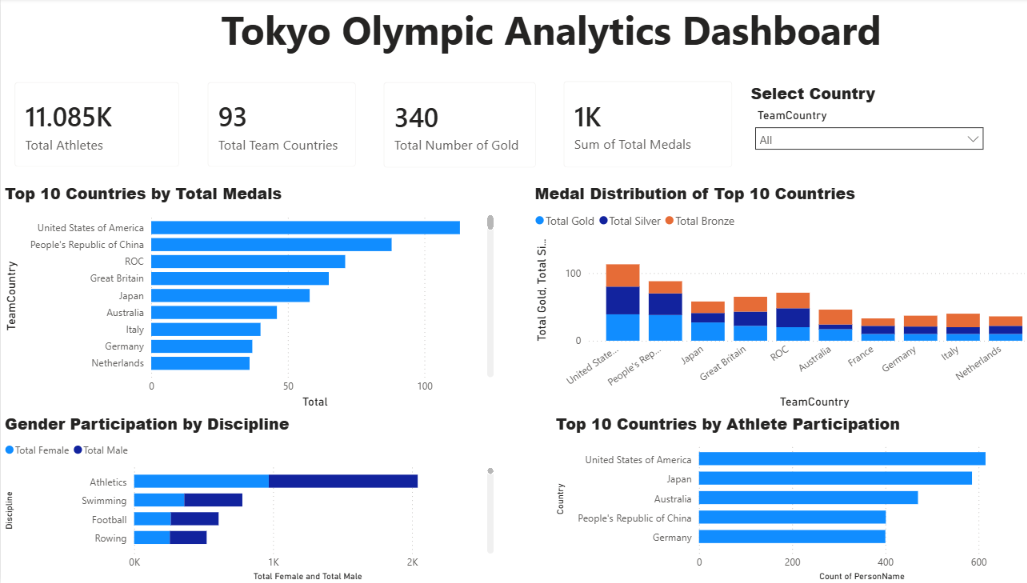

The page's visual inventory and layout, read from the dashboard file:
{"tool":"powerbi","page":{"name":"Page 1","canvas":[1280,720],"ordinal":0},"visuals":[{"type":"cardVisual","fields":{"Data":["CountNonNull(athletes.PersonName)"]},"box":[0.5,86,236,138.5],"z":0},{"type":"textbox","box":[196,0,958,76],"z":1000},{"type":"cardVisual","fields":{"Data":["Count(medals.TeamCountry)"]},"box":[236.5,86,216,138.5],"z":2000},{"type":"cardVisual","fields":{"Data":["Sum(medals.Gold)"]},"box":[452.3,86.2,221.5,139.2],"z":3000},{"type":"cardVisual","fields":{"Data":["Sum(medals.Total Medals)"]},"box":[673.8,84.6,241.5,140],"z":4000},{"type":"clusteredBarChart","title":"Top 10 Countries by Total Medals","fields":{"Y":["Sum(medals.Total)"],"Category":["medals.TeamCountry"]},"box":[0,226,610,282],"z":5000},{"type":"columnChart","title":"Medal Distribution of Top 10 Countries ","fields":{"Y":["Sum(medals.Gold)","Sum(medals.Silver)","Sum(medals.Bronze)"],"Category":["medals.TeamCountry"]},"box":[650,226,630,282],"z":6000},{"type":"barChart","title":"Gender Participation by Discipline","fields":{"Category":["entriesgender.Discipline"],"Y":["Sum(entriesgender.Female)","Sum(entriesgender.Male)"]},"box":[0,507.9,610,212.1],"z":7000},{"type":"barChart","title":"Top 10 Countries by Athlete Participation","fields":{"Category":["athletes.Country"],"Y":["CountNonNull(athletes.PersonName)"]},"box":[676,508,604,212],"z":8000},{"type":"slicer","title":"Select Country","fields":{"Values":["medals.TeamCountry"]},"box":[915,103.3,300,121.7],"z":9000}]}

Visuals, with their boxes in screenshot pixels (x1, y1, x2, y2), scaled from the page's 1280x720 canvas onto the 1027x583 screenshot:
cardVisual - CountNonNull(athletes.PersonName): locate(0, 70, 190, 182)
textbox: locate(157, 0, 926, 62)
cardVisual - Count(medals.TeamCountry): locate(190, 70, 363, 182)
cardVisual - Sum(medals.Gold): locate(363, 70, 541, 183)
cardVisual - Sum(medals.Total Medals): locate(541, 69, 734, 182)
"Top 10 Countries by Total Medals" clusteredBarChart: locate(0, 183, 489, 411)
"Medal Distribution of Top 10 Countries " columnChart: locate(522, 183, 1026, 411)
"Gender Participation by Discipline" barChart: locate(0, 411, 489, 582)
"Top 10 Countries by Athlete Participation" barChart: locate(542, 411, 1026, 582)
"Select Country" slicer: locate(734, 84, 975, 182)
